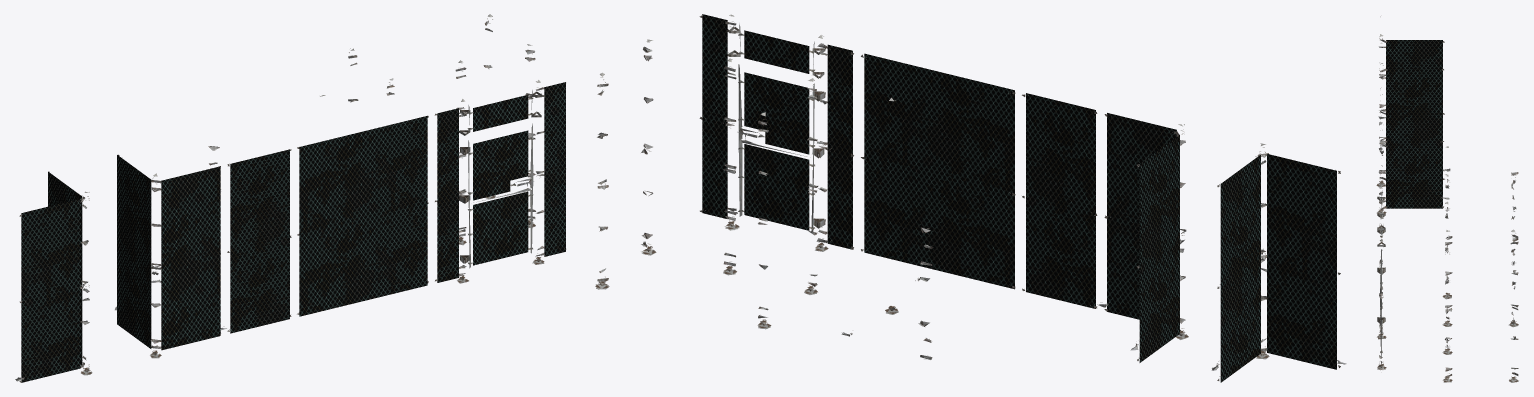
File: chainlink_fence.glb
3 views of the same model, side by side, from view 1: azimuth 30°, elevation 25°; view 2: azimuth 150°, elevation 25°; view 3: azimuth 270°, elevation 25° (orthographic). The views are drawn at different scales.
Visible parts, largest first — view 1: chainlink_fence; view 2: chainlink_fence; view 3: chainlink_fence.
Part boxes in pixels (x1,y1,x2,y2): chainlink_fence: (15,14,566,382); chainlink_fence: (595,14,1346,382); chainlink_fence: (1376,15,1518,382).
Bounding box in the file's own units: 6.42 × 2 × 1.72.
Materials: 2 (2 with a texture image).
